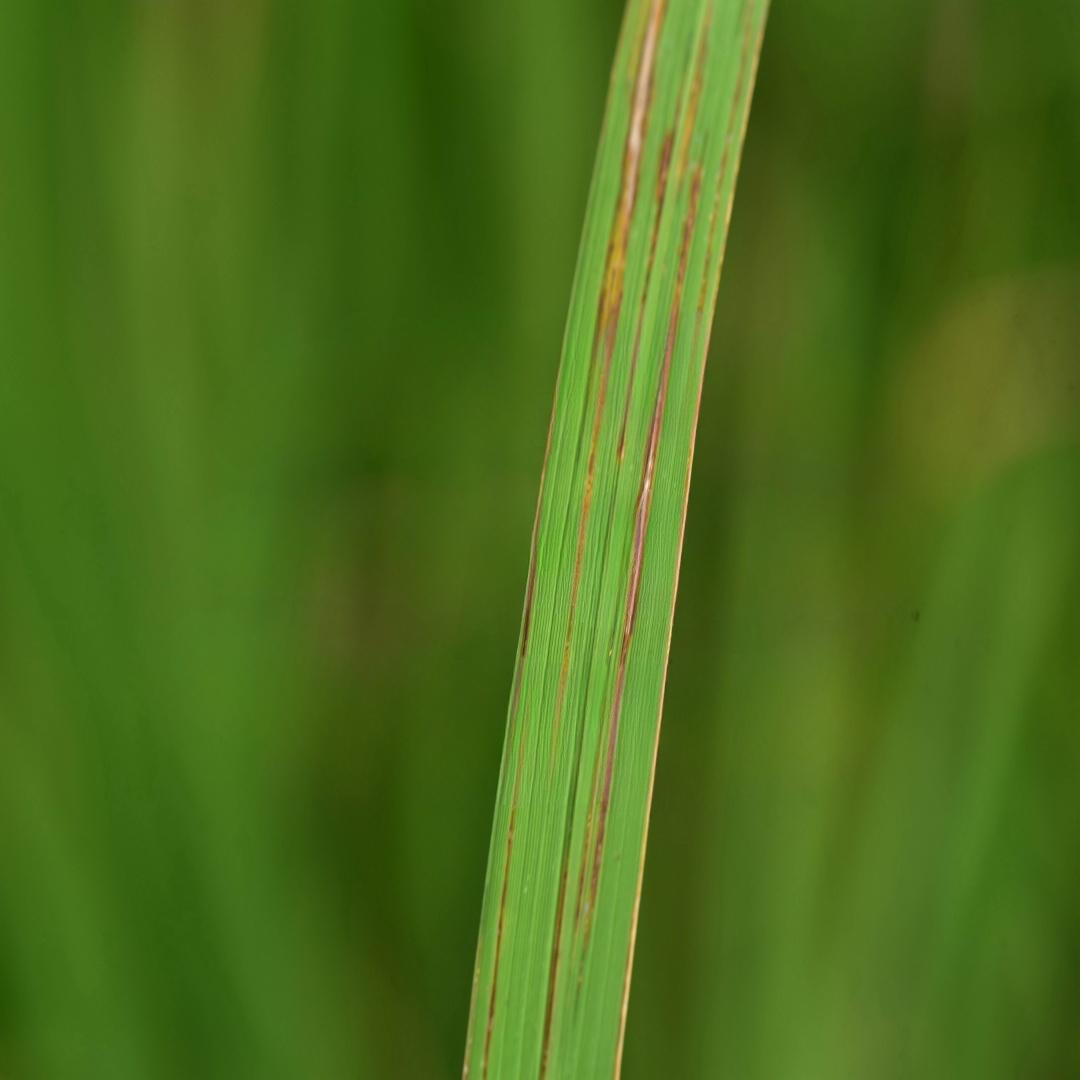BLS: (575, 160, 704, 1017), (642, 0, 770, 845), (555, 0, 670, 722), (688, 1, 757, 364), (619, 131, 673, 462), (512, 408, 556, 719), (482, 793, 515, 1079), (674, 3, 713, 202), (613, 845, 646, 1079), (539, 846, 567, 1079), (574, 749, 603, 933), (462, 939, 481, 1079)
LEAF: (462, 0, 771, 1079)
